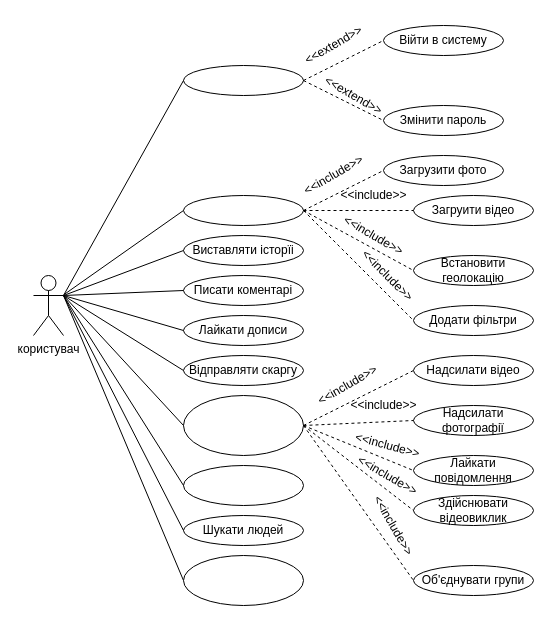
Image size: 551x624. Some labels were removed from this diagram. Here are the shapes that lost their labels. From the top down, the centre of each, then its label:
At point 243,80: "Зареєструватись".
At point 243,210: "Створити пост".
At point 243,425: "Переписуватись з іншими користувачами".
At point 243,485: "Підписуватись на інших користувачів".
At point 243,580: "Змінювати дані про себе".
